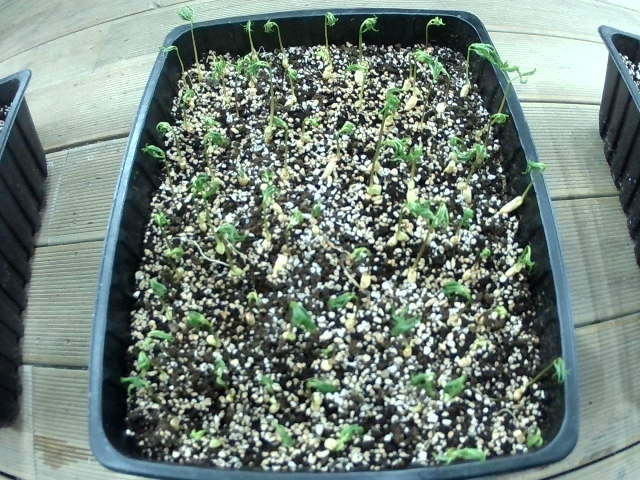생장기: (431, 421, 493, 480), (131, 209, 200, 261), (519, 343, 579, 400), (507, 139, 547, 194), (310, 417, 370, 453), (400, 356, 450, 399), (273, 291, 320, 336), (380, 302, 428, 345), (444, 198, 485, 247), (131, 131, 183, 169), (126, 354, 165, 403), (198, 352, 241, 396), (503, 237, 544, 283), (397, 139, 444, 176), (327, 276, 359, 330), (468, 107, 511, 147), (442, 272, 485, 311), (495, 47, 540, 84), (401, 6, 447, 42), (252, 362, 289, 406), (335, 243, 383, 276), (283, 198, 331, 231), (263, 105, 303, 144), (136, 278, 183, 311), (185, 420, 223, 459), (255, 174, 295, 211), (140, 324, 177, 362), (392, 187, 427, 227), (439, 360, 474, 400), (334, 58, 378, 89), (322, 112, 360, 147), (251, 16, 287, 52), (306, 11, 342, 47), (153, 8, 200, 35), (452, 146, 490, 179), (213, 227, 252, 259), (199, 154, 232, 191), (207, 121, 238, 160), (425, 195, 455, 235), (471, 243, 510, 273), (411, 52, 448, 83), (523, 424, 555, 459), (310, 369, 346, 400), (347, 12, 383, 42), (267, 413, 294, 453), (428, 135, 462, 165), (191, 305, 221, 339), (219, 8, 250, 40), (371, 139, 408, 165), (374, 85, 405, 115), (486, 298, 513, 332), (395, 54, 430, 80), (156, 41, 195, 64), (460, 36, 495, 60), (232, 57, 265, 81), (180, 86, 207, 111), (164, 111, 188, 135), (211, 51, 233, 77), (266, 63, 298, 79)
